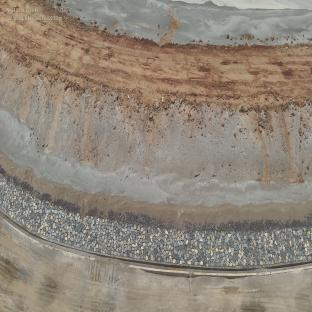rock_toe: (0, 172, 312, 268)
toe_drain: (0, 207, 312, 278)
